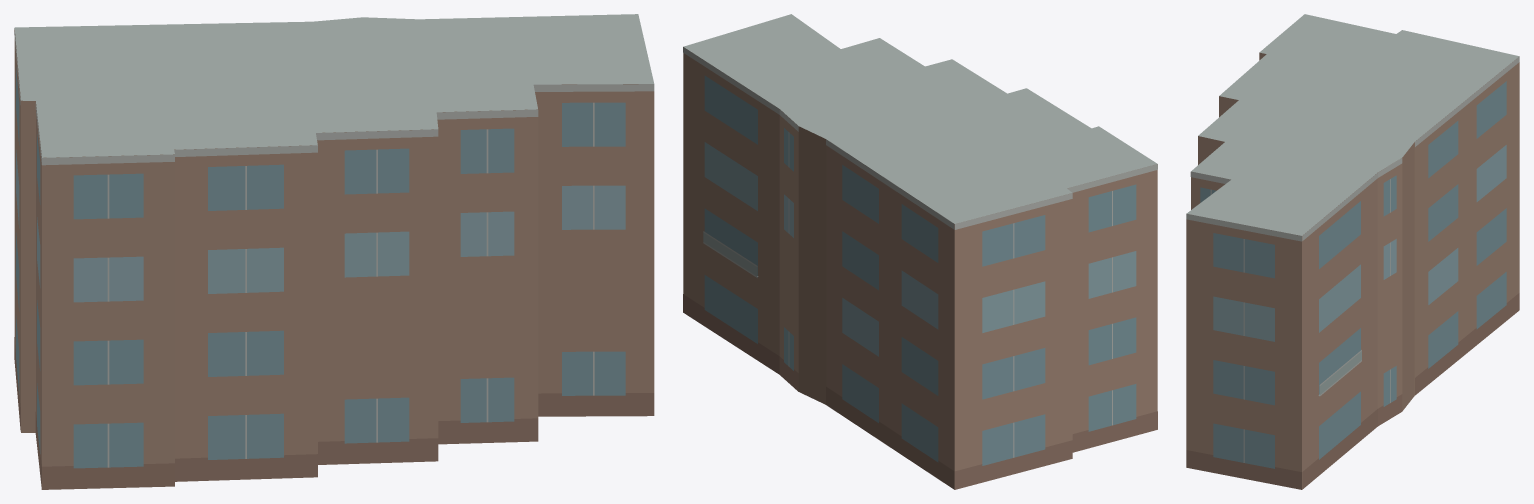
Rendered from survey-upis-32473828.glb.
3 renders of one model, left to right at view 1: azimuth 30°, elevation 25°; view 2: azimuth 150°, elevation 25°; view 3: azimuth 270°, elevation 25°, orthographic. The views are drawn at different scales.
Parts seen in each view (by area): view 1: survey-upis-32473828.tmp; view 2: survey-upis-32473828.tmp; view 3: survey-upis-32473828.tmp.
Part boxes in pixels (box(x1,y1,x2,y2)): survey-upis-32473828.tmp: box(14, 14, 654, 489); survey-upis-32473828.tmp: box(683, 14, 1157, 489); survey-upis-32473828.tmp: box(1186, 14, 1519, 489).
Bounding box in the file's own units: 20.44 × 10.9 × 12.97.
